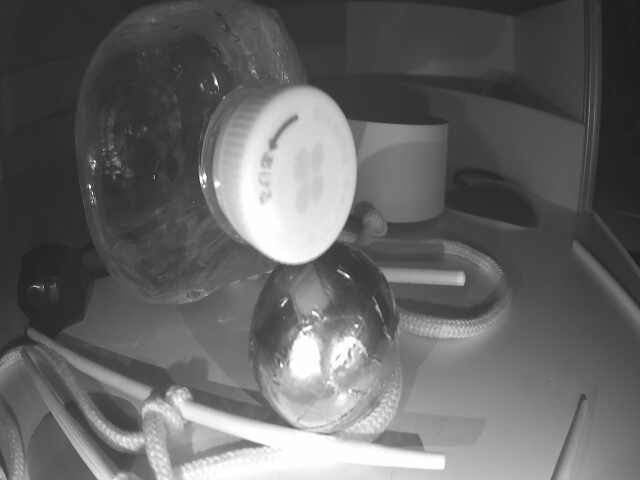Dead: (16, 247, 93, 335)
Live: (249, 243, 401, 433)
Point: (347, 71, 576, 212)
